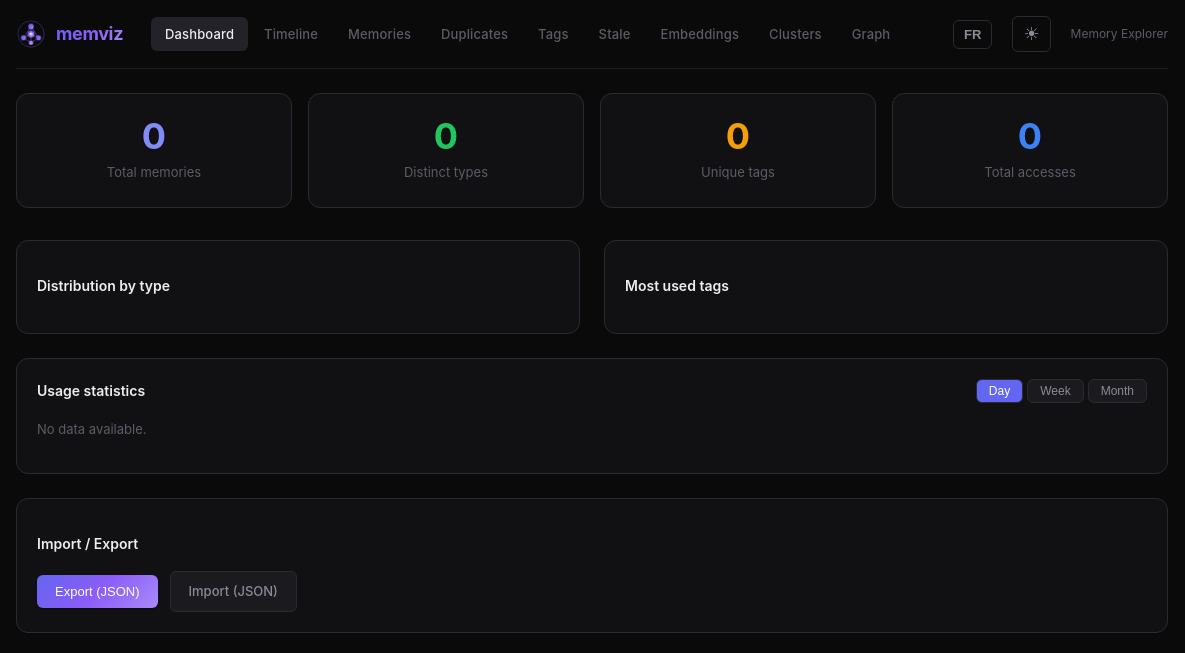
Test: Language Toggle › Language Toggle Button in App › bascule la langue au clic
Click the button with aria-label "toggle language".
click(973, 34)  # box [953,20,992,48]
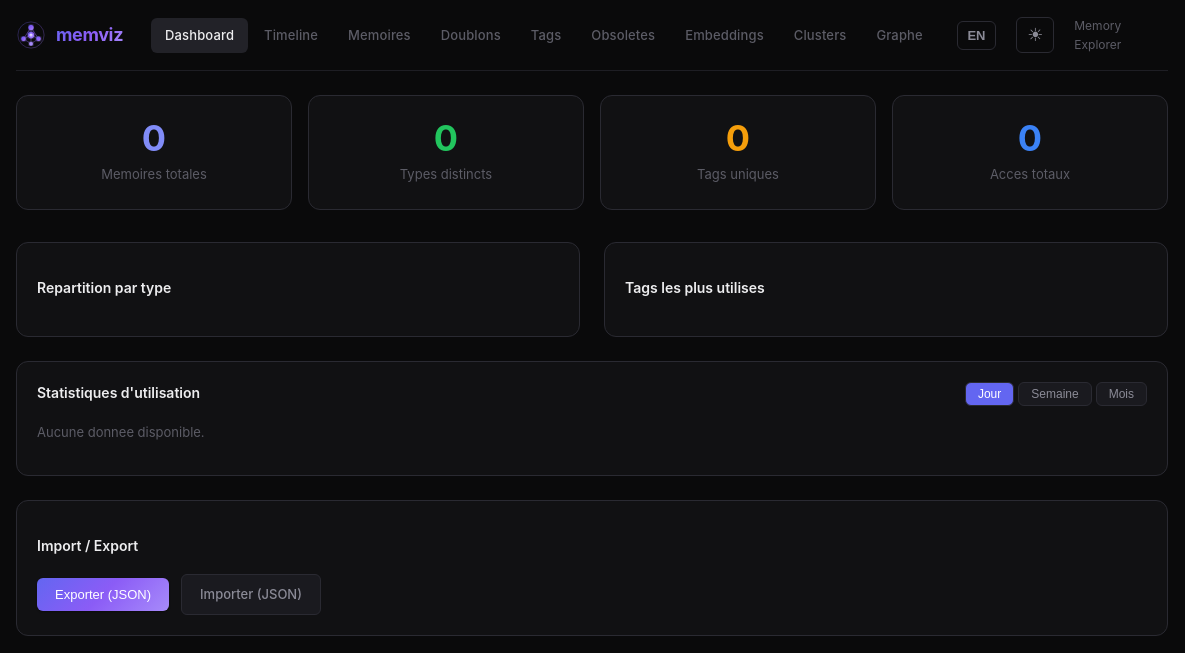
Now the button with aria-label "toggle language" reads "EN"
Click the button with aria-label "toggle language".
click(976, 35)  # box [957,21,996,50]
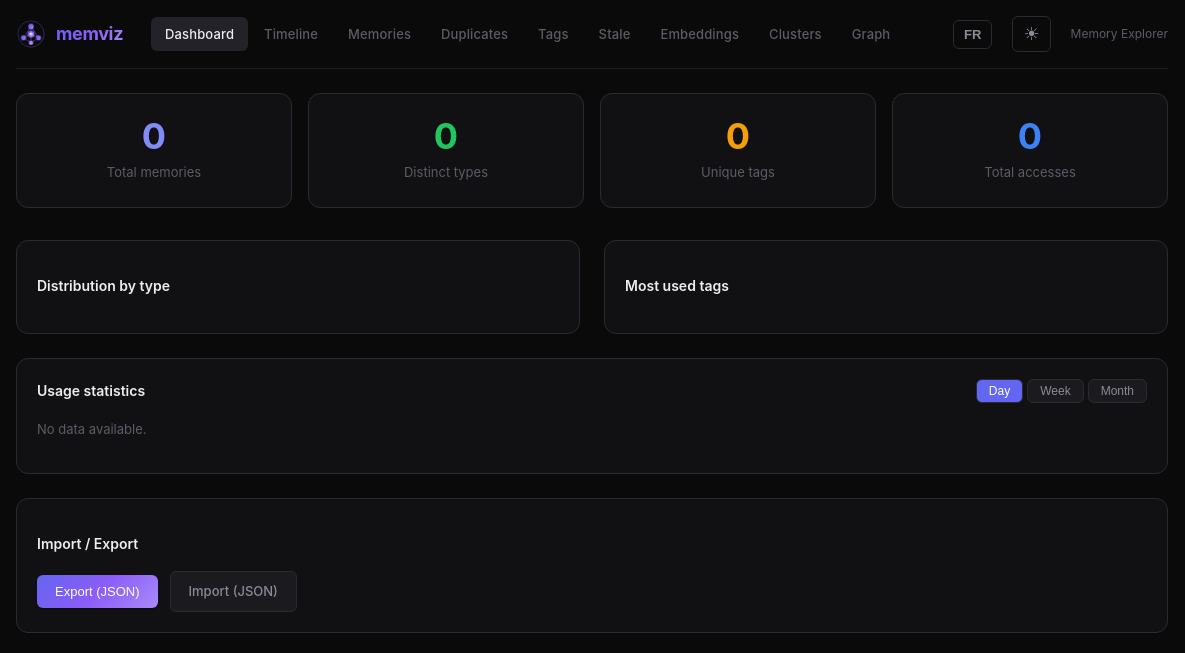
Now the button with aria-label "toggle language" reads "FR", box [953,20,992,48]
